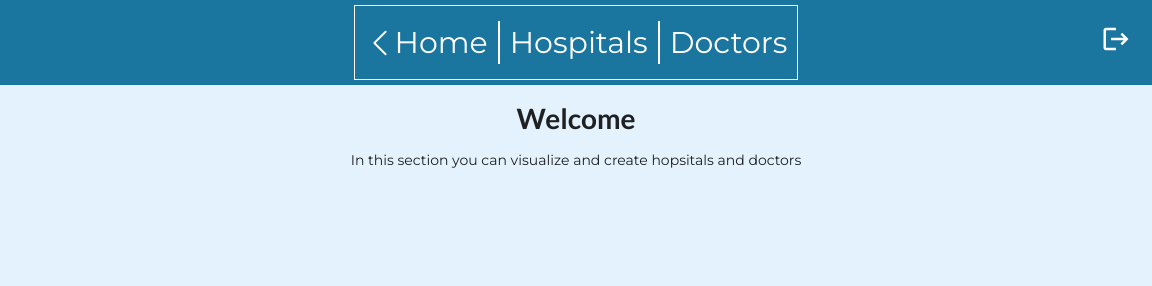
Test: AdminPage › when renders › and the user is logged in › should allow to visit the doctors page
Click the link "Doctors" at coordinates (729, 42), box [670,32,787,52]
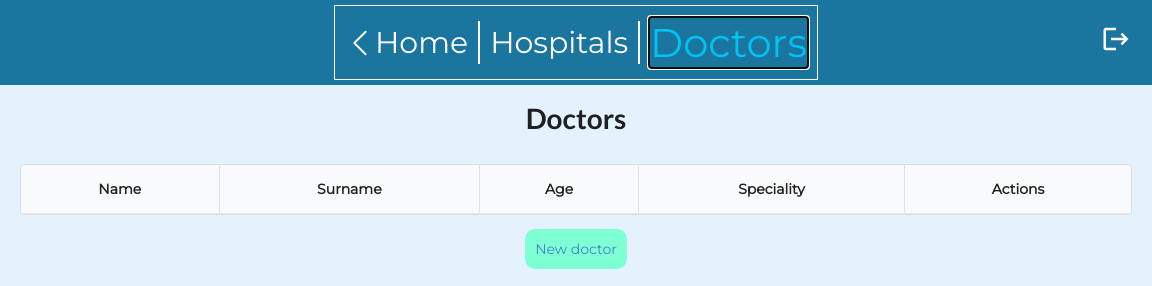
Expected: the heading "Doctors" is shown, [526,100,626,136]
